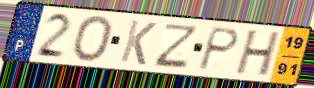2: (31, 13, 76, 59)
H: (233, 29, 283, 78)
K: (118, 19, 159, 68)
O: (70, 14, 115, 63)
P: (195, 25, 241, 72)
Z: (151, 22, 202, 69)
